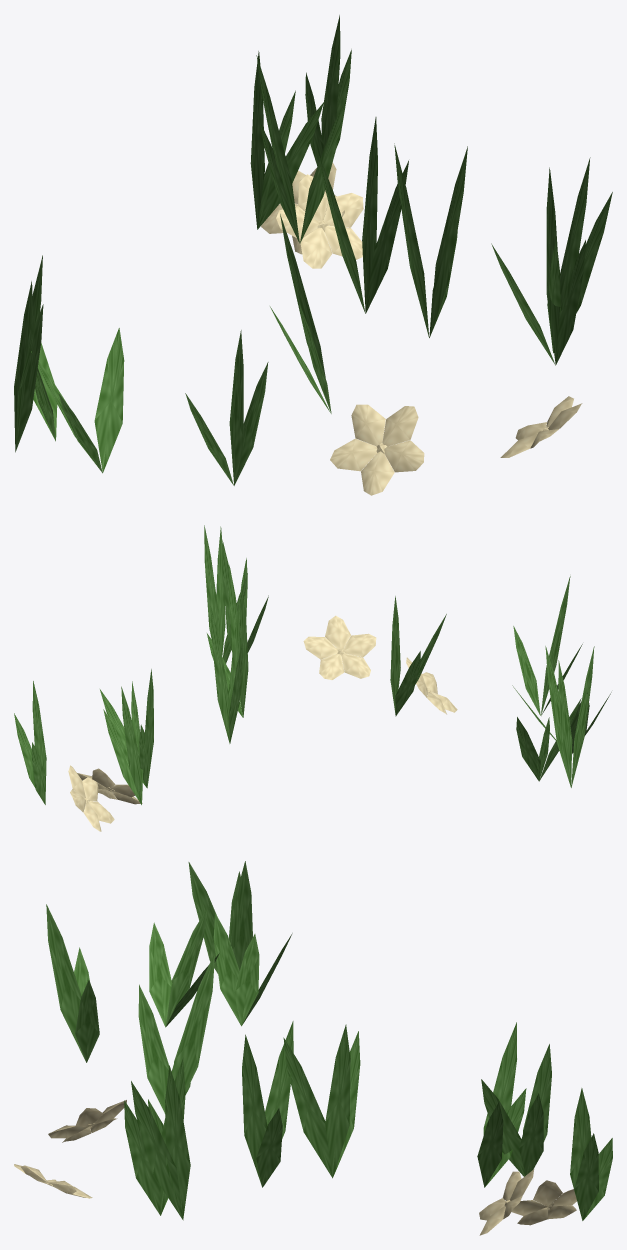
File: meadow_patch.glb
3 views of the same model, one above another, from view 1: azimuth 30°, elevation 25°; view 2: azimuth 150°, elevation 25°; view 3: azimuth 270°, elevation 25° (orthographic). The views are drawn at different scales.
Parts seen in each view (by area): view 1: meadow_patch.002; view 2: meadow_patch.002; view 3: meadow_patch.002.
Part boxes in pixels (x1,y1,x2,y2): meadow_patch.002: (14,15,612,495); meadow_patch.002: (14,525,611,831); meadow_patch.002: (14,861,612,1235).
Bounding box in the file's own units: 1.76 × 0.6992 × 1.94.
1 material, 1 textured.
